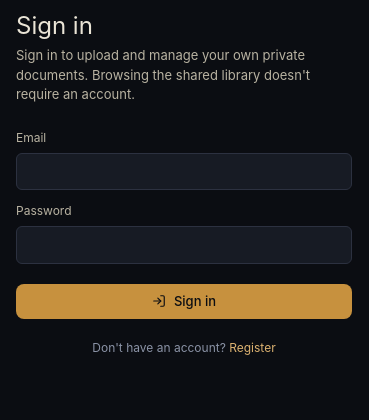
Test: LoginPage › falls back to a generic message when the thrown error isn't an ApiError
Step 1. Type "alice@example.com" into the field labelled "Email" → (184, 171), box [16, 152, 352, 190]
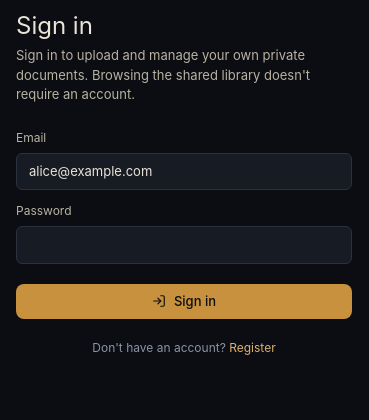
Step 2. Type "hunter2pass" into the password field labelled "Password" → (184, 245), box [16, 226, 352, 264]
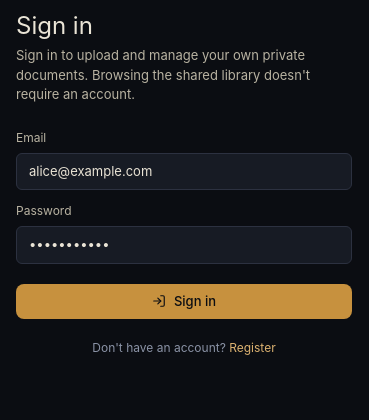
Step 3. Click the button "Sign in" → (184, 301), box [16, 284, 352, 319]
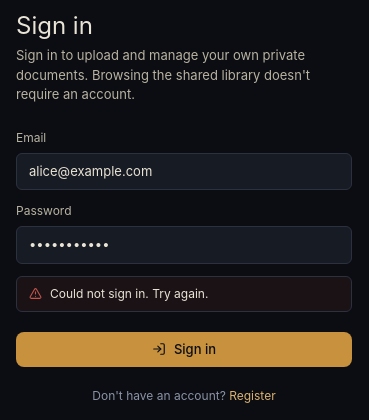
Result: the text "Could not sign in. Try again." is shown at [16, 276, 352, 312]
